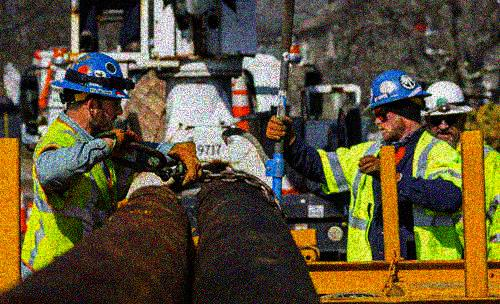helmet: (48, 51, 129, 130), (360, 70, 430, 141), (423, 79, 474, 144)
